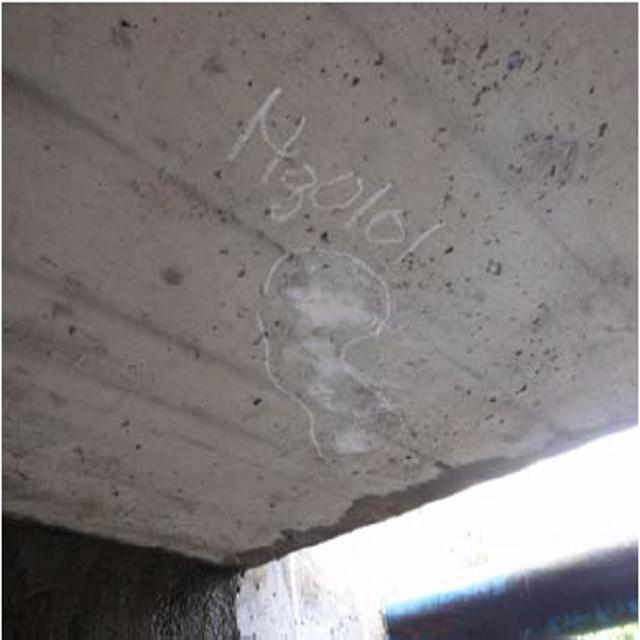freelime: (270, 259, 401, 470)
